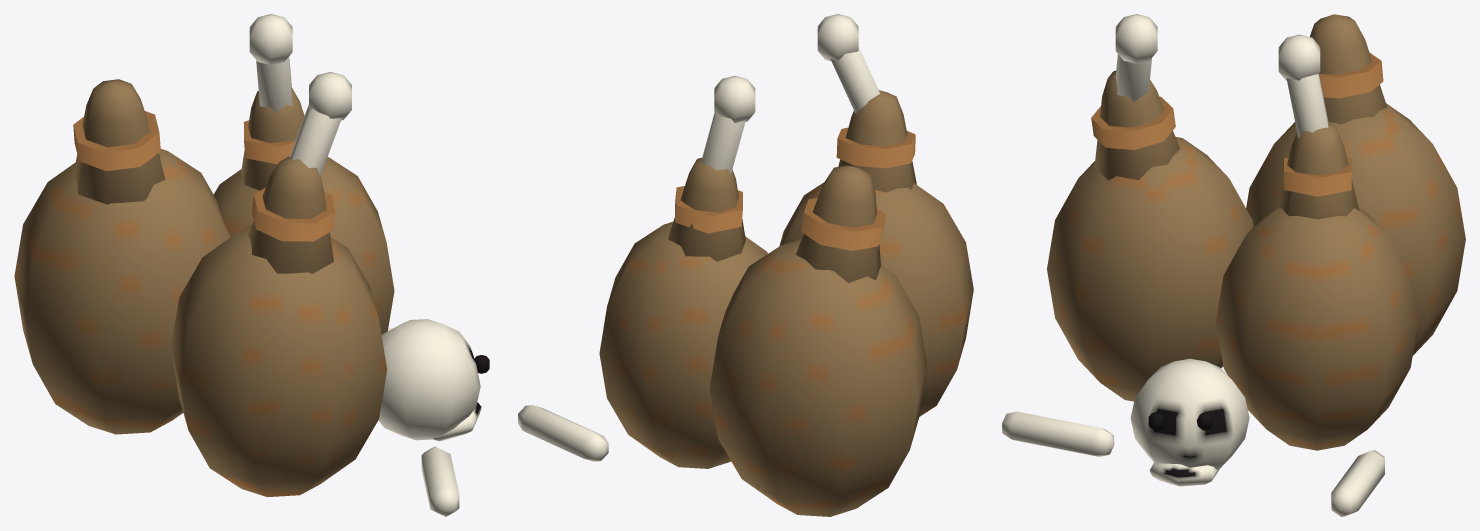
File: prop_sacks3_f9b5.glb
The picture shows the model from 3 angles, left to right: view 1: azimuth 30°, elevation 25°; view 2: azimuth 150°, elevation 25°; view 3: azimuth 270°, elevation 25°; orthographic projection. The views are drawn at different scales.
Parts seen in each view (by area): view 1: prop_sacks3_f9b5; view 2: prop_sacks3_f9b5; view 3: prop_sacks3_f9b5.
Boxes of the visible parts, x1,y1,x2,y2 form: prop_sacks3_f9b5: (14, 14, 489, 516); prop_sacks3_f9b5: (518, 14, 973, 516); prop_sacks3_f9b5: (1002, 14, 1465, 516).
Bounding box in the file's own units: 1.15 × 1.08 × 1.13.
1 material, 1 textured.
